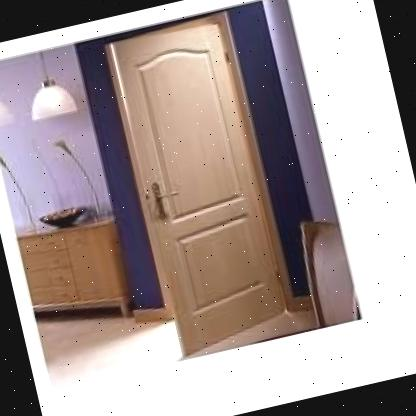door: (90, 0, 314, 367)
